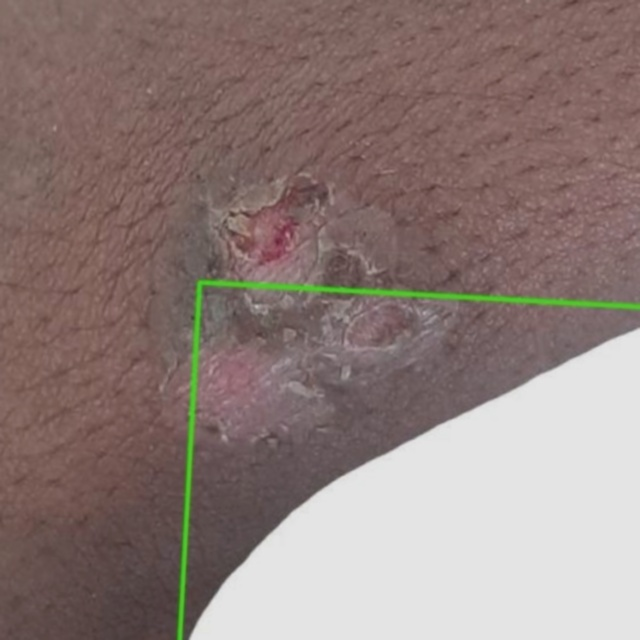Contact Dermatitis: (179, 282, 639, 639)
